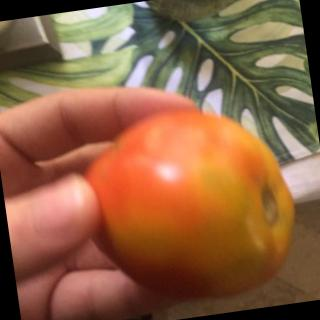Tomat: (61, 87, 318, 310)
